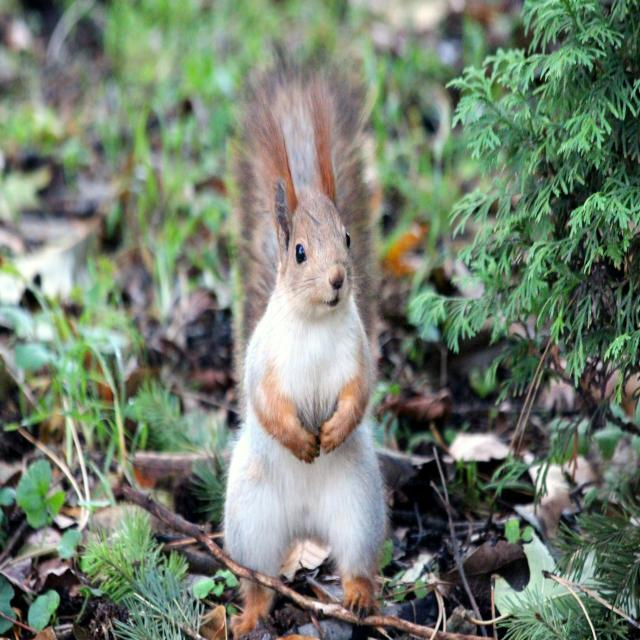Squirrel: (213, 43, 386, 640)
